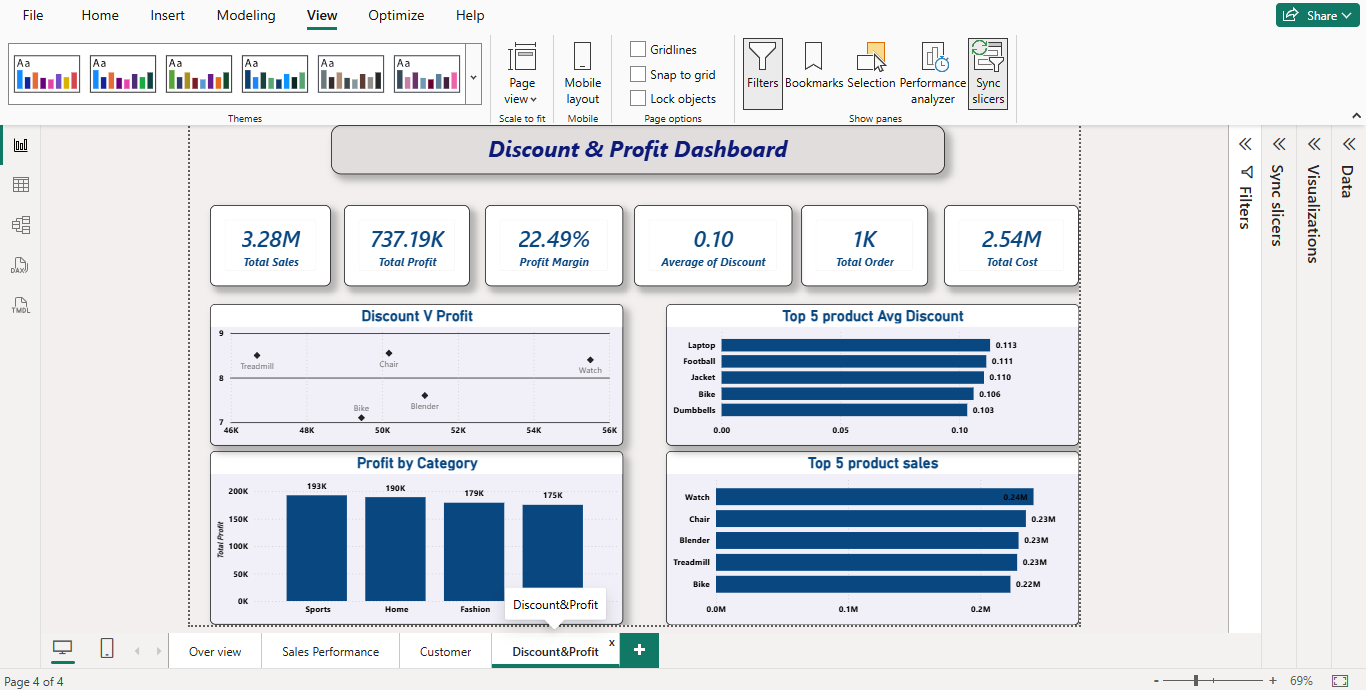

This screenshot's page, from the dashboard's own definition file:
{"tool":"powerbi","page":{"name":"Discount&Profit","canvas":[1280,720],"ordinal":3},"visuals":[{"type":"textbox","box":[203.3,0,883.6,70.6],"z":0},{"type":"cardVisual","fields":{"Data":["sales_dataset.Total Cost"]},"box":[1085.8,115.2,194.4,116.6],"z":3000},{"type":"cardVisual","fields":{"Data":["sales_dataset.Total Order"]},"box":[879.8,115.2,182.9,116.6],"z":4000},{"type":"cardVisual","fields":{"Data":["sales_dataset.Total Profit"]},"box":[221.8,115.2,181.4,116.6],"z":5000},{"type":"cardVisual","fields":{"Data":["sales_dataset.Total Sales"]},"box":[28.8,115.2,174.2,116.6],"z":6000},{"type":"cardVisual","fields":{"Data":["sales_dataset.Profit Margin"]},"box":[424.8,115.2,198.7,116.6],"z":7000},{"type":"clusteredBarChart","title":"Top 5 product sales","fields":{"Category":["sales_dataset.Product"],"Y":["sales_dataset.Total Sales"]},"box":[685.4,469.4,594.7,250.6],"z":8000},{"type":"columnChart","title":" Profit by Category ","fields":{"Category":["sales_dataset.Category"],"Y":["sales_dataset.Total Profit"]},"box":[28.2,470.1,595.1,250],"z":9000},{"type":"clusteredBarChart","title":"Top 5 product Avg  Discount","fields":{"Category":["sales_dataset.Product"],"Y":["Avg(sales_dataset.Discount)"]},"box":[685.4,257.8,594.7,204.5],"z":10000},{"type":"scatterChart","title":"Discount V Profit","fields":{"X":["sales_dataset.Total Profit"],"Y":["Sum(sales_dataset.Discount)"],"Category":["sales_dataset.Product"]},"box":[28.2,257.1,595.1,204.2],"z":12000},{"type":"cardVisual","fields":{"Data":["Avg(sales_dataset.Discount)"]},"box":[639.4,115.2,227.5,116.6],"z":12001}]}

Visuals, with their boxes on the page's 1280x720 design canvas (x1, y1, x2, y2). These are canvas units, not pixel positions in the 1366x690 screenshot, which may show the page scaled, cropped or inside an application window:
textbox: l=203, t=0, r=1087, b=71
cardVisual - sales_dataset.Total Cost: l=1086, t=115, r=1280, b=232
cardVisual - sales_dataset.Total Order: l=880, t=115, r=1063, b=232
cardVisual - sales_dataset.Total Profit: l=222, t=115, r=403, b=232
cardVisual - sales_dataset.Total Sales: l=29, t=115, r=203, b=232
cardVisual - sales_dataset.Profit Margin: l=425, t=115, r=624, b=232
"Top 5 product sales" clusteredBarChart: l=685, t=469, r=1280, b=720
" Profit by Category " columnChart: l=28, t=470, r=623, b=720
"Top 5 product Avg  Discount" clusteredBarChart: l=685, t=258, r=1280, b=462
"Discount V Profit" scatterChart: l=28, t=257, r=623, b=461
cardVisual - Avg(sales_dataset.Discount): l=639, t=115, r=867, b=232
